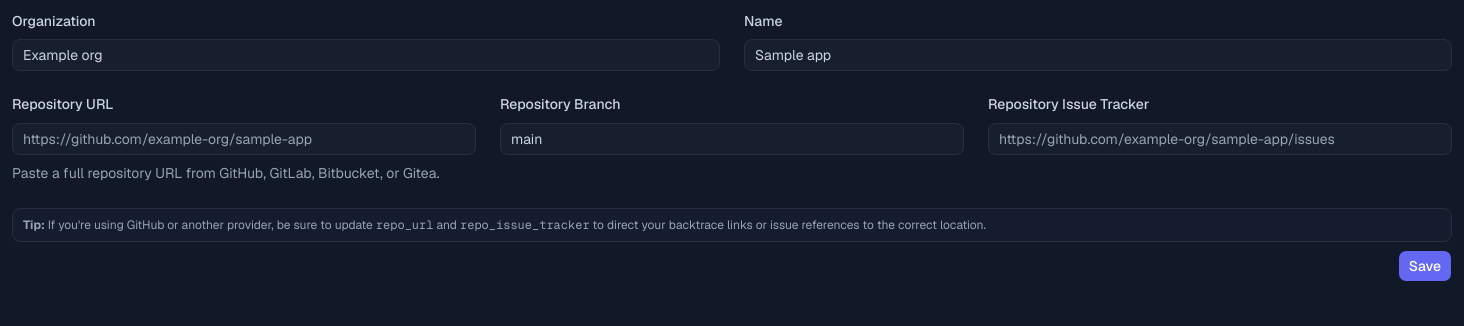
it: EditForm › associates a rejected field with its validation error
Click the button "Save" at (1425, 266), box [1398,250,1452,282]
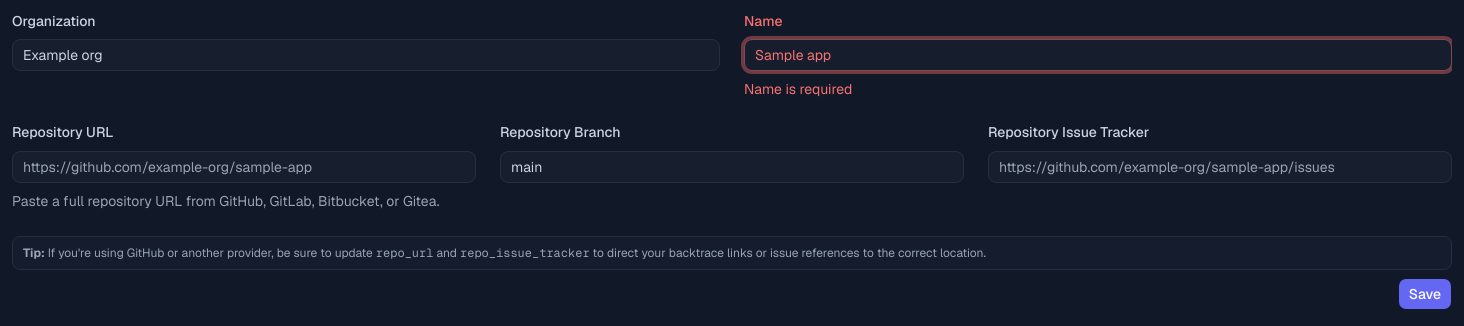
Check: the text "Name is required" is shown, box [744,80,852,98]
